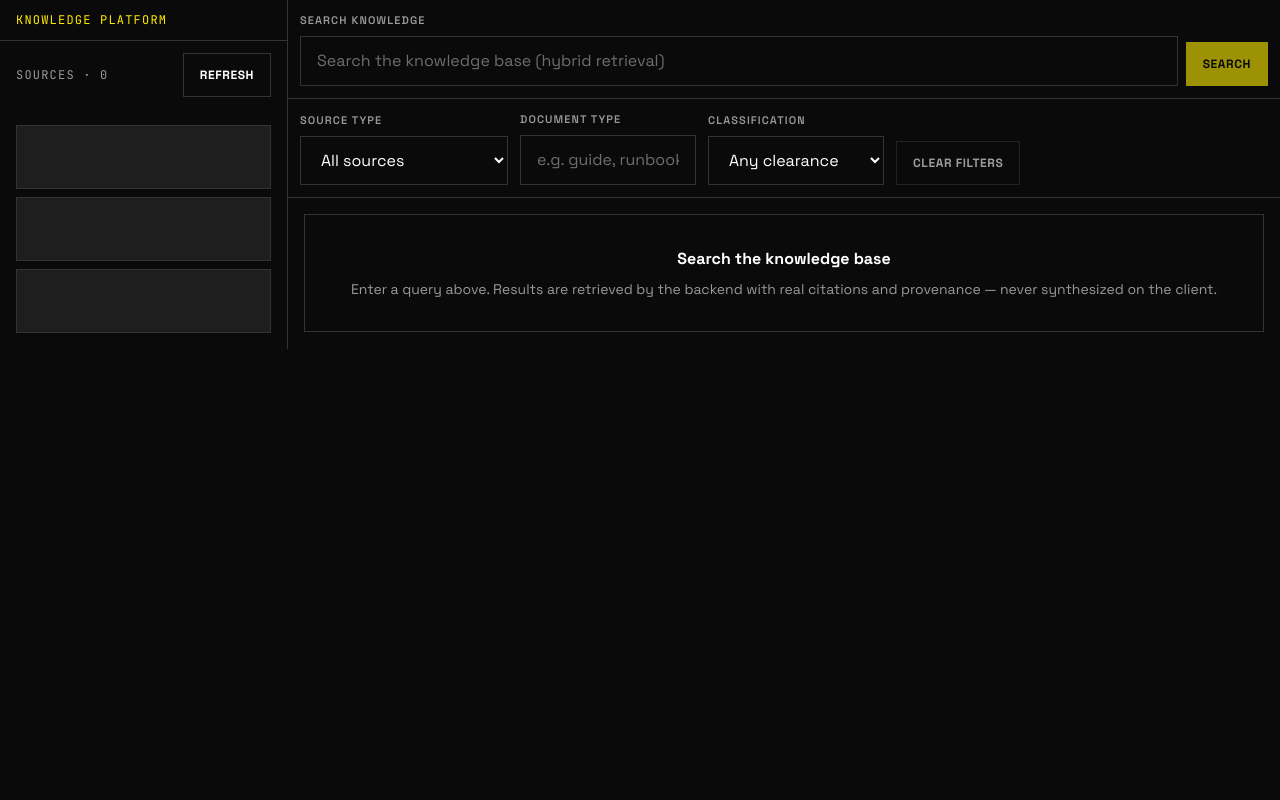
Test: Knowledge Workspace › opens a result, fetches the real document, and renders content read-only
Type "hello" into the field labelled "Knowledge search" at (739,61), box [300,36,1178,86]
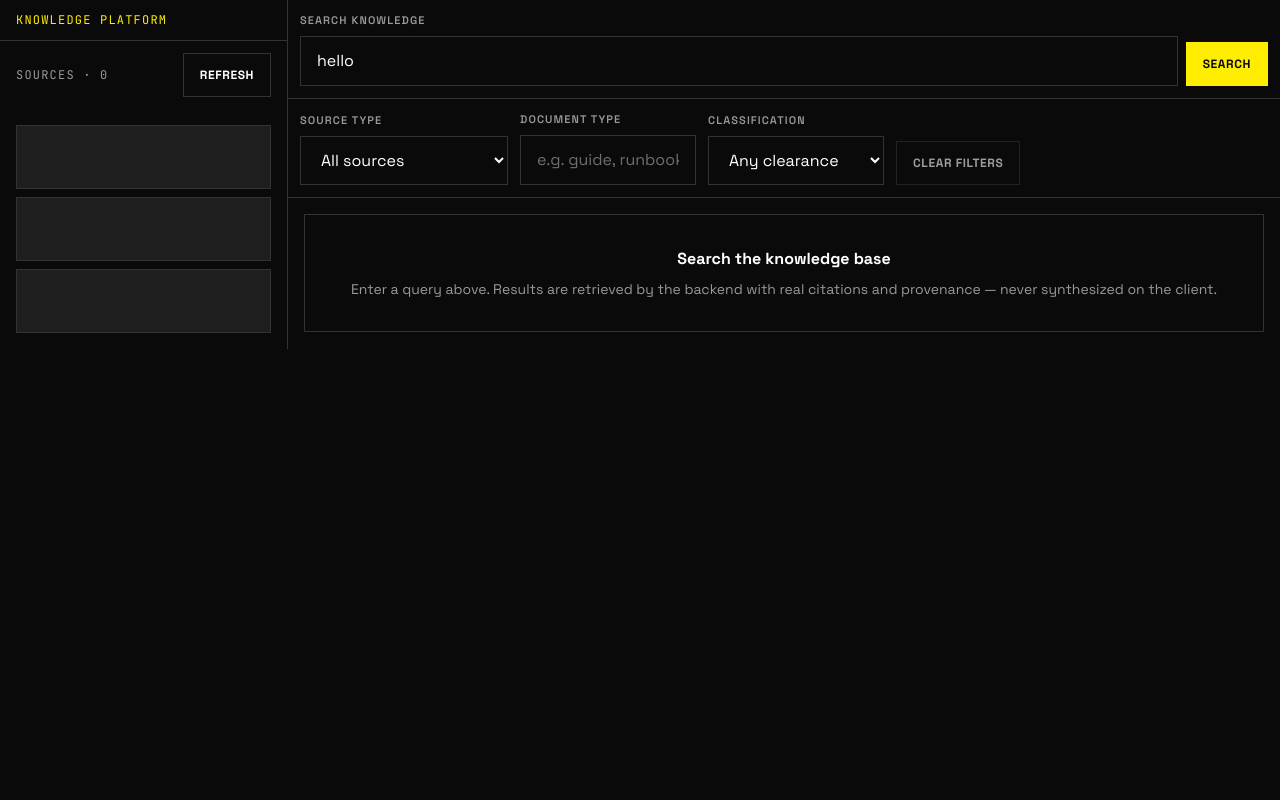
Click the button "Search" at (1227,64), box [1186,42,1268,86]
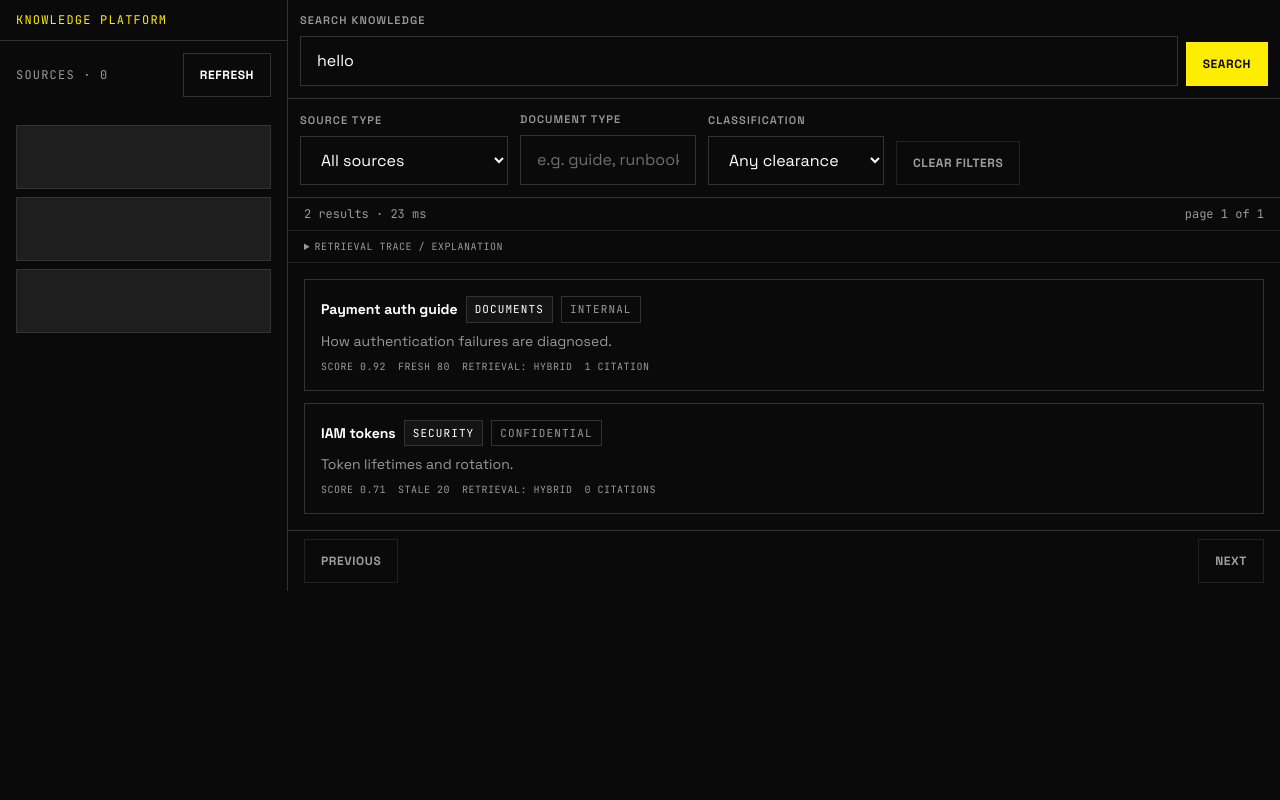
Check: the list named "Knowledge results" is shown, box [288,263,1279,530]
Click the button "Payment auth guide" at (389,309), box [304,279,1264,390]
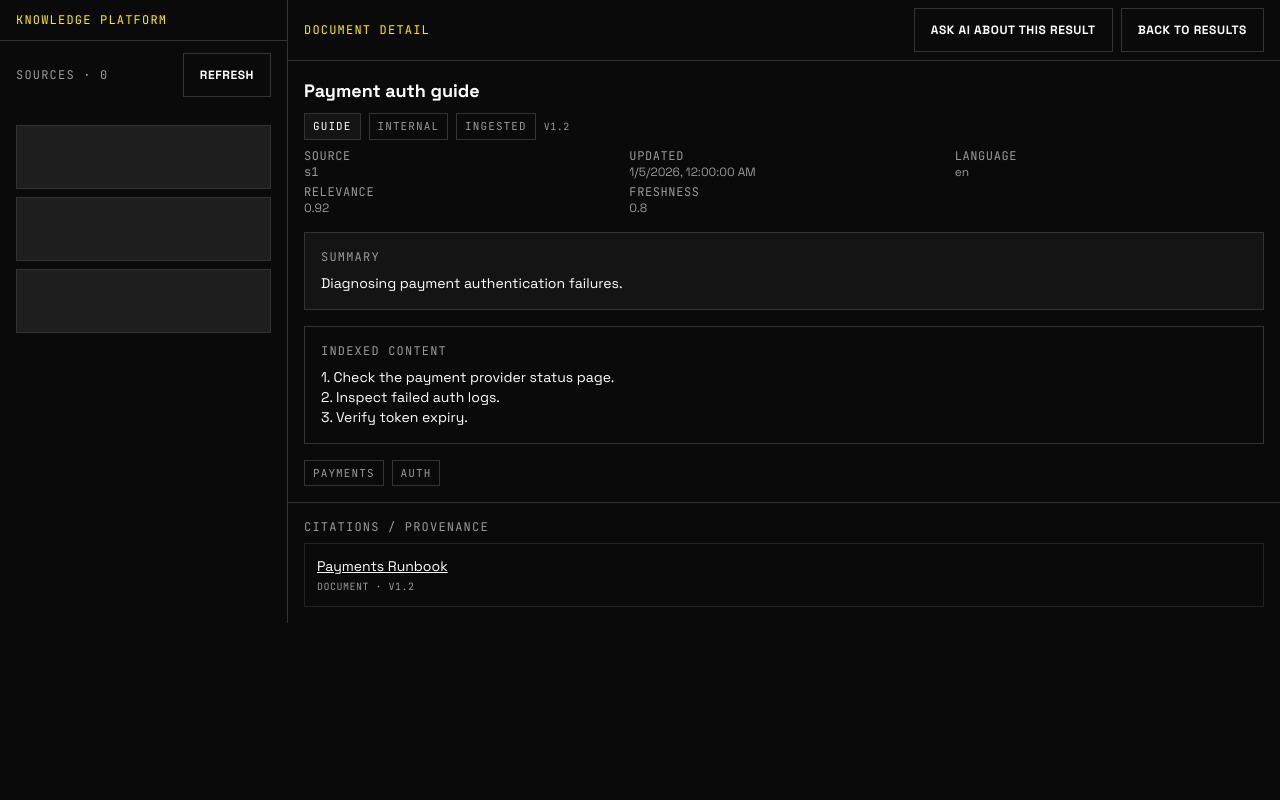
Check: the text "Document detail" is shown, box [304,22,430,38]
Check: the heading "Summary" is shown, box [321,248,380,264]
Check: the text "Verify token expiry" is shown, box [321,368,614,426]
